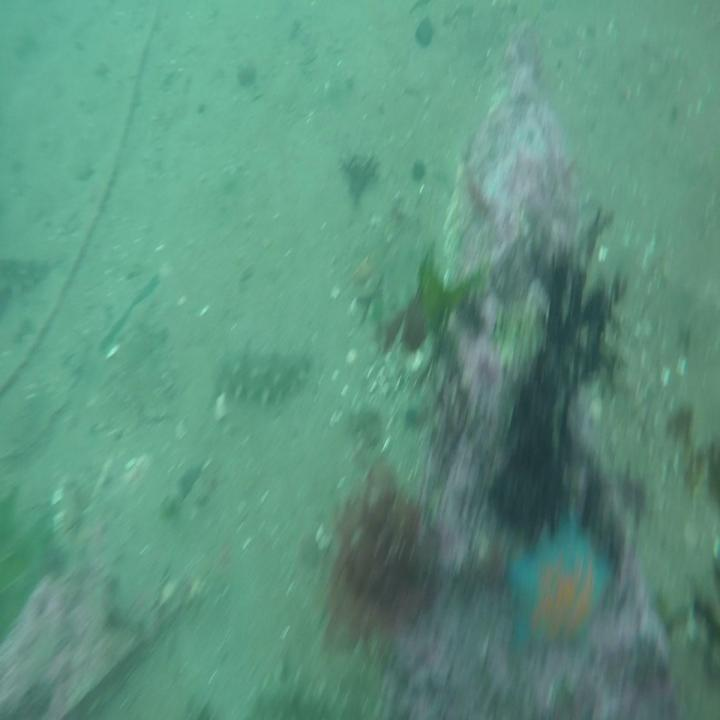holothurian: (219, 339, 315, 404)
starfish: (510, 515, 612, 663)
